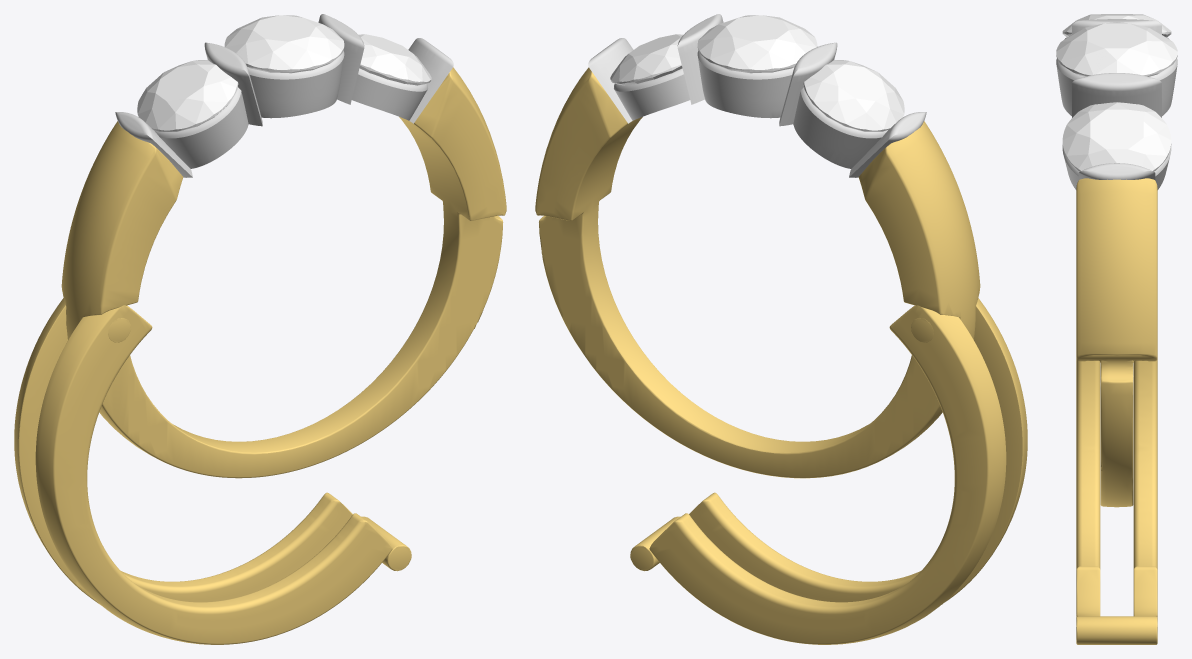
The model's file is SallyHinge_webgi_demo.glb.
3 views of the same model, side by side, from view 1: azimuth 30°, elevation 25°; view 2: azimuth 150°, elevation 25°; view 3: azimuth 270°, elevation 25° (orthographic).
Visible parts, largest first — view 1: Sally_ring_YG_shank_1_for_3d_model, Sally_ring_YG_shank_2_for_3d_model, Sally_ring_PT_for_3d_model, Sally_ring_diamonds_for_3d_model, Sally_ring_diamonds_for_3d_model001, Sally_ring_diamonds_for_3d_model002; view 2: Sally_ring_YG_shank_1_for_3d_model, Sally_ring_YG_shank_2_for_3d_model, Sally_ring_PT_for_3d_model, Sally_ring_diamonds_for_3d_model, Sally_ring_diamonds_for_3d_model001, Sally_ring_diamonds_for_3d_model002; view 3: Sally_ring_YG_shank_1_for_3d_model, Sally_ring_YG_shank_2_for_3d_model, Sally_ring_PT_for_3d_model, Sally_ring_diamonds_for_3d_model002, Sally_ring_diamonds_for_3d_model, Sally_ring_diamonds_for_3d_model001.
Boxes of the visible parts, x1,y1,x2,y2 form: Sally_ring_YG_shank_1_for_3d_model: (61,67,506,478); Sally_ring_YG_shank_2_for_3d_model: (14,298,411,644); Sally_ring_PT_for_3d_model: (115,14,453,177); Sally_ring_diamonds_for_3d_model: (224,15,344,73); Sally_ring_diamonds_for_3d_model001: (137,60,238,131); Sally_ring_diamonds_for_3d_model002: (358,34,431,85); Sally_ring_YG_shank_1_for_3d_model: (535,67,980,478); Sally_ring_YG_shank_2_for_3d_model: (630,298,1027,644); Sally_ring_PT_for_3d_model: (588,14,926,177); Sally_ring_diamonds_for_3d_model: (697,15,817,73); Sally_ring_diamonds_for_3d_model001: (803,60,904,131); Sally_ring_diamonds_for_3d_model002: (610,34,683,85); Sally_ring_YG_shank_1_for_3d_model: (1076,178,1157,507); Sally_ring_YG_shank_2_for_3d_model: (1076,359,1157,644); Sally_ring_PT_for_3d_model: (1056,19,1177,189); Sally_ring_diamonds_for_3d_model002: (1062,102,1171,171); Sally_ring_diamonds_for_3d_model: (1056,22,1177,76); Sally_ring_diamonds_for_3d_model001: (1062,14,1171,37).
Size of the model in its own units: 3.06 by 3.69 by 0.6744.
